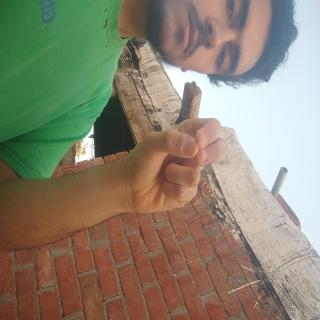QAAF: (79, 116, 164, 261)
